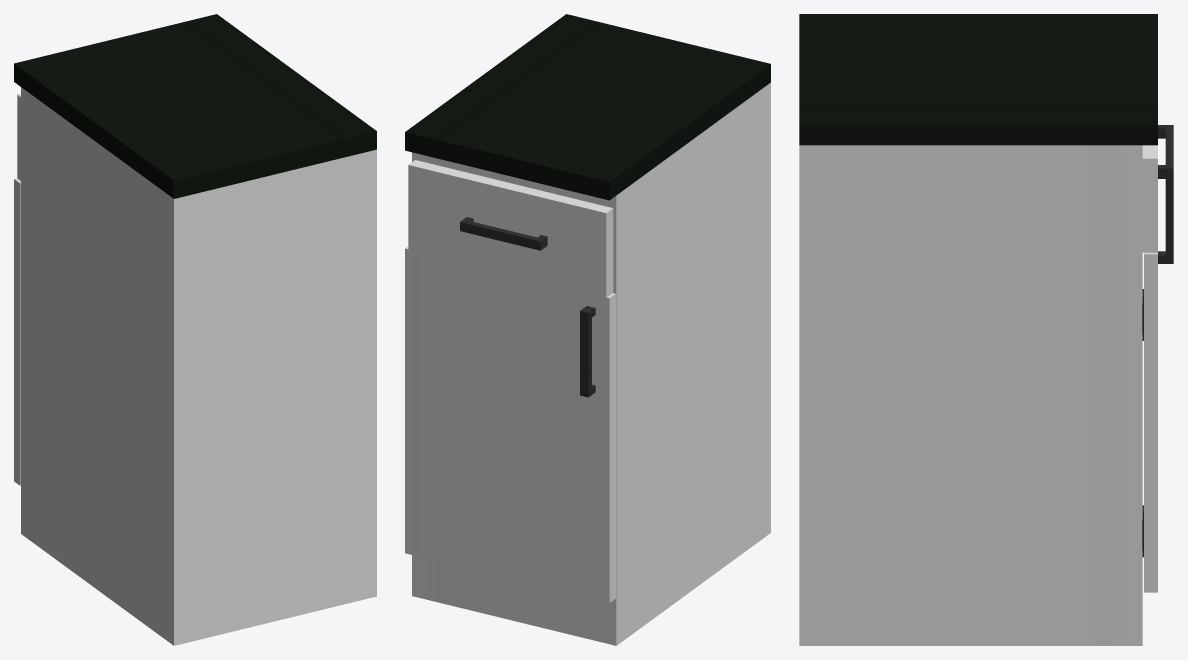
The model's file is CabinetE04.glb.
3 views of the same model, side by side, from view 1: azimuth 30°, elevation 25°; view 2: azimuth 150°, elevation 25°; view 3: azimuth 270°, elevation 25° (orthographic). The views are drawn at different scales.
Visible parts, largest first — view 1: CabinetE04_model, CabinetE04Door; view 2: CabinetE04_model, CabinetE04Door, CabinetE04Drawer01; view 3: CabinetE04_model, CabinetE04Door, CabinetE04Drawer01.
Part boxes in pixels (bbox=[...]): CabinetE04_model: bbox=[14, 14, 376, 645]; CabinetE04Door: bbox=[14, 178, 20, 485]; CabinetE04_model: bbox=[405, 14, 770, 645]; CabinetE04Door: bbox=[405, 246, 615, 602]; CabinetE04Drawer01: bbox=[408, 160, 613, 297]; CabinetE04_model: bbox=[799, 14, 1157, 645]; CabinetE04Door: bbox=[1142, 179, 1173, 592]; CabinetE04Drawer01: bbox=[1142, 125, 1173, 252].
Size of the model in its own units: 0.9256 by 2.02 by 1.31.
1 material, 1 textured.
